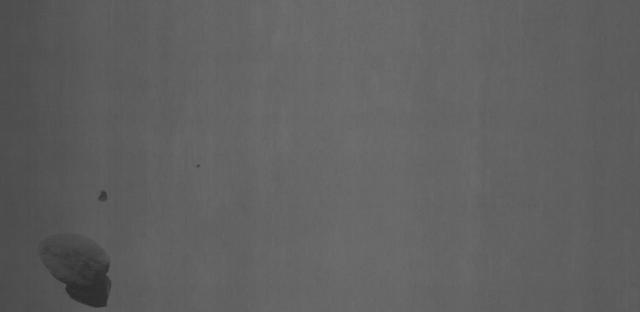oil_spot: (32, 229, 122, 310), (96, 189, 119, 203)
